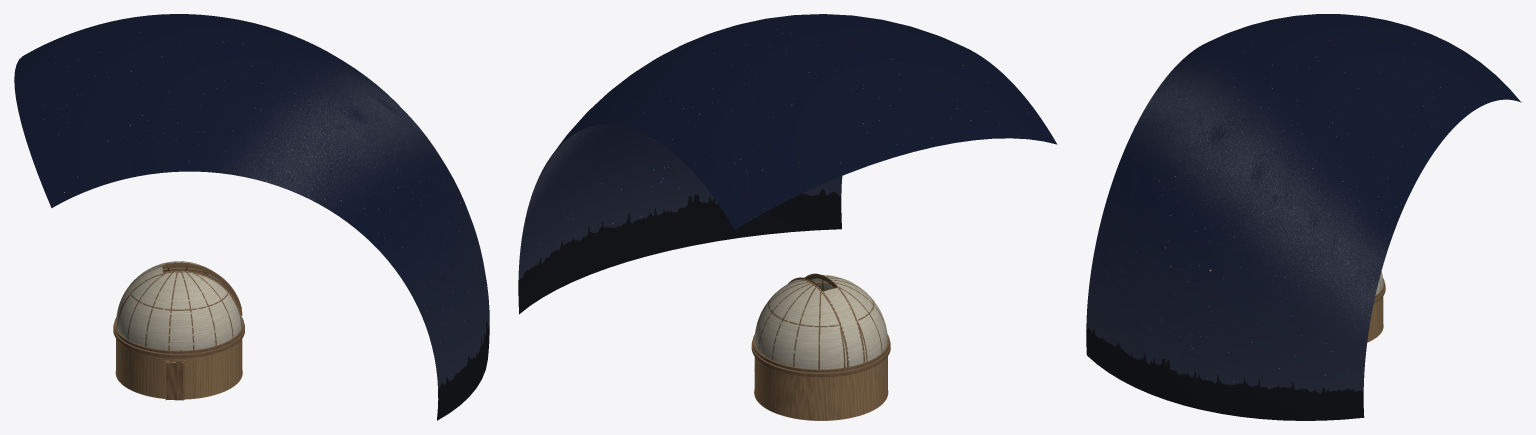
Rendered from ogilvys_observatory.gltf.
The picture shows the model from 3 angles, left to right: view 1: azimuth 30°, elevation 25°; view 2: azimuth 150°, elevation 25°; view 3: azimuth 270°, elevation 25°; orthographic projection. The views are drawn at different scales.
Visible parts, largest first — view 1: far.sky, MESH_DomePaint, MESH_Matchboard, MESH_DomeRibs, MESH_PineTrim, MESH_DoorBoards; view 2: far.sky, MESH_DomePaint, MESH_Matchboard, MESH_DomeRibs; view 3: far.sky, MESH_Matchboard.
Boxes of the visible parts, <box> form: far.sky: <box>14,14,489,420</box>; MESH_DomePaint: <box>116,261,242,350</box>; MESH_Matchboard: <box>116,339,242,399</box>; MESH_DomeRibs: <box>113,261,244,358</box>; MESH_PineTrim: <box>162,263,242,400</box>; MESH_DoorBoards: <box>166,362,182,400</box>; far.sky: <box>518,14,1057,314</box>; MESH_DomePaint: <box>754,275,887,369</box>; MESH_Matchboard: <box>754,356,887,420</box>; MESH_DomeRibs: <box>751,275,890,377</box>; far.sky: <box>1086,14,1521,420</box>; MESH_Matchboard: <box>1367,296,1383,342</box>.
Bounding box in the file's own units: 23.15 × 16.5 × 22.55.
23 materials, 23 textured.
